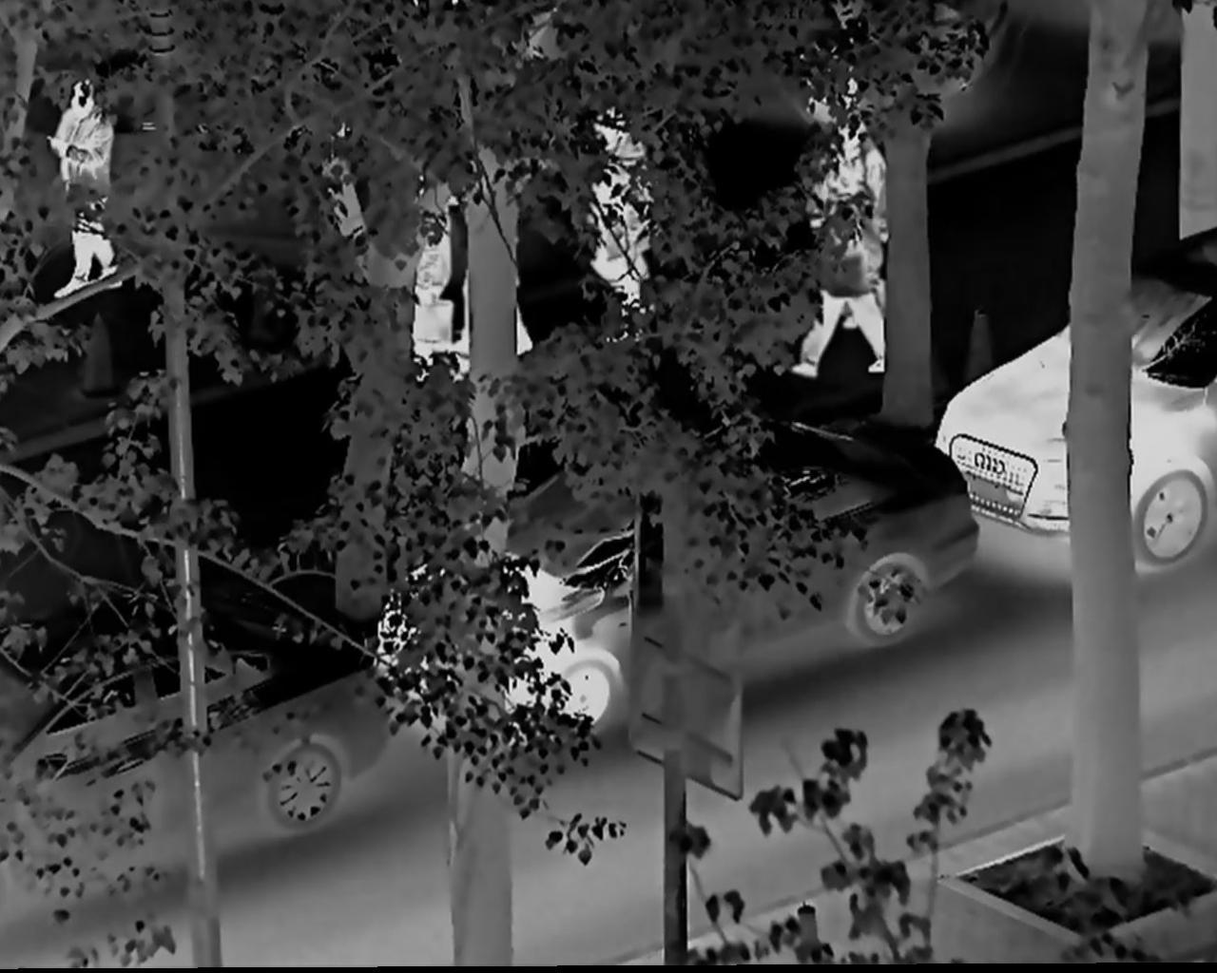person: (785, 161, 889, 386), (41, 68, 132, 305), (802, 111, 894, 333)
